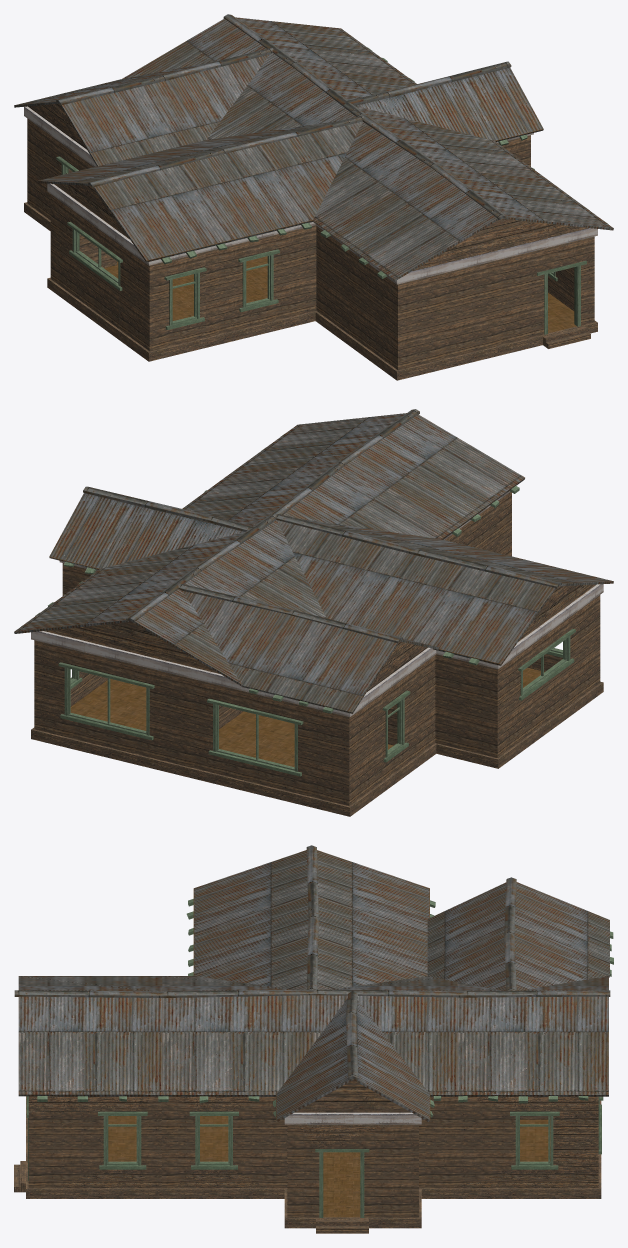
Rendered from BuildingMedWood01_2048.glb.
The picture shows the model from 3 angles, top to bottom: view 1: azimuth 30°, elevation 25°; view 2: azimuth 150°, elevation 25°; view 3: azimuth 270°, elevation 25°; orthographic projection. The views are drawn at different scales.
Visible parts, largest first — view 1: xiutz_building_med_wood_01; view 2: xiutz_building_med_wood_01; view 3: xiutz_building_med_wood_01.
Boxes of the visible parts, box(x1,y1,x2,y2) form: xiutz_building_med_wood_01: box(14, 14, 613, 380); xiutz_building_med_wood_01: box(14, 409, 613, 816); xiutz_building_med_wood_01: box(14, 845, 613, 1233).
Size of the model in its own units: 22.22 by 6.92 by 24.2.
1 material, 1 textured.
